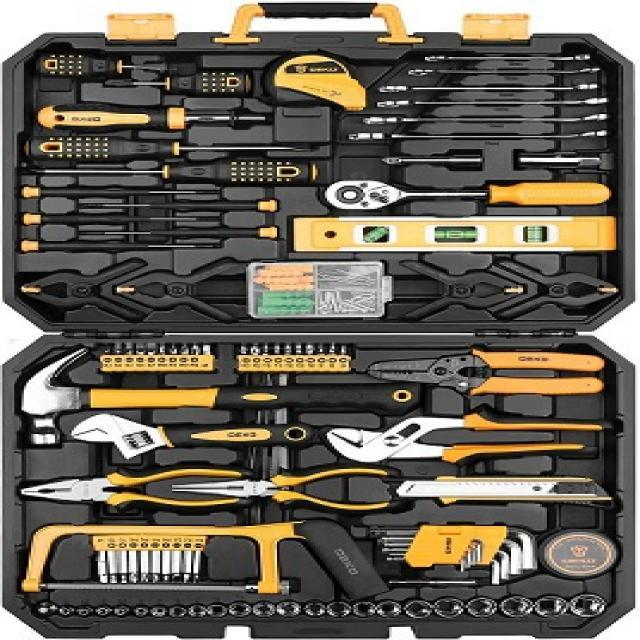hammer: (12, 339, 437, 449)
screwdriver: (7, 132, 327, 166), (105, 70, 260, 98), (32, 51, 173, 78)
